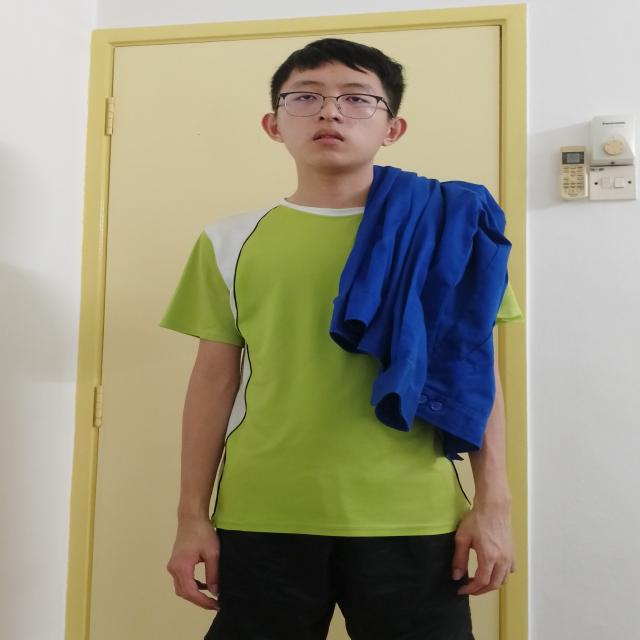person_without_labcoat: (161, 39, 521, 640)
